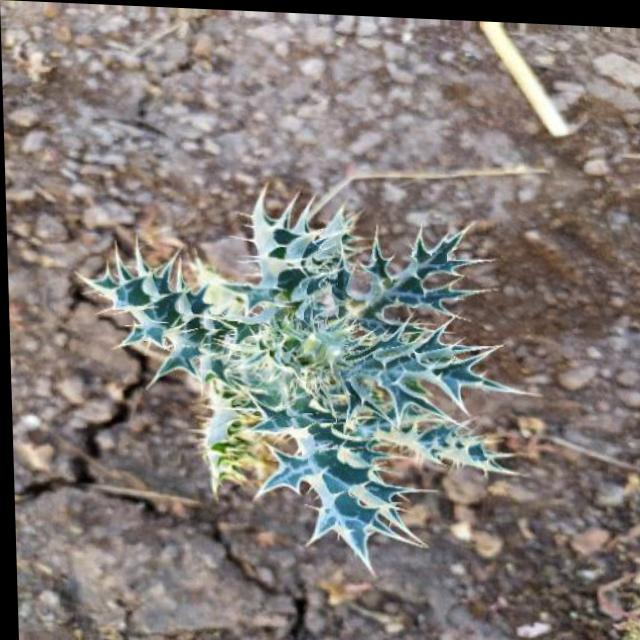weed: (96, 176, 549, 574)
